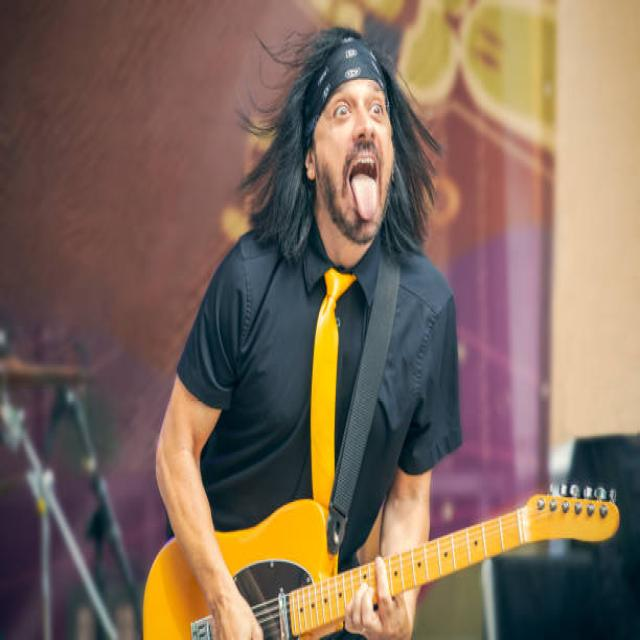tongue: (350, 172, 379, 218)
